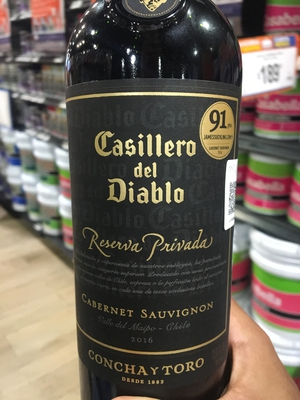casillero del diablo reserva privada cabernet sauvignon: (55, 11, 260, 377)
